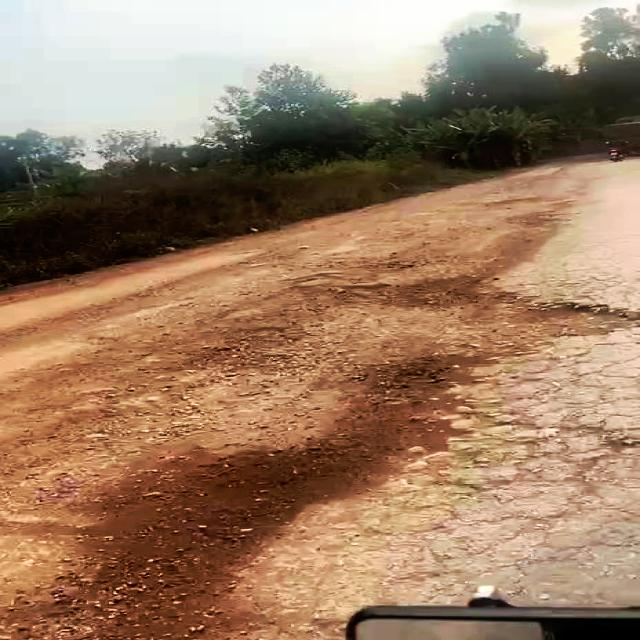pothole: (495, 302, 640, 339)
